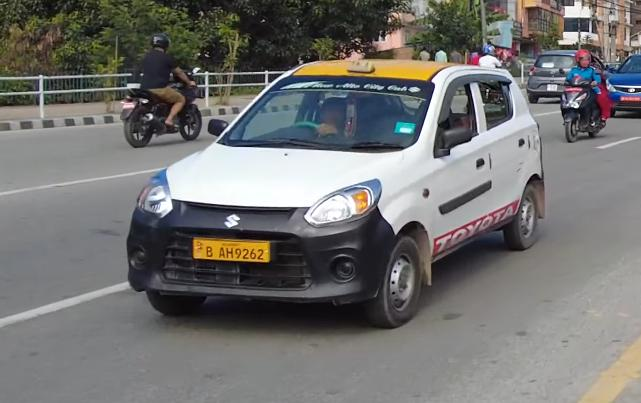bike: (118, 65, 207, 150)
car: (529, 48, 608, 104), (605, 48, 641, 119)
scooter: (554, 65, 607, 146)
taxi: (124, 51, 549, 329)
